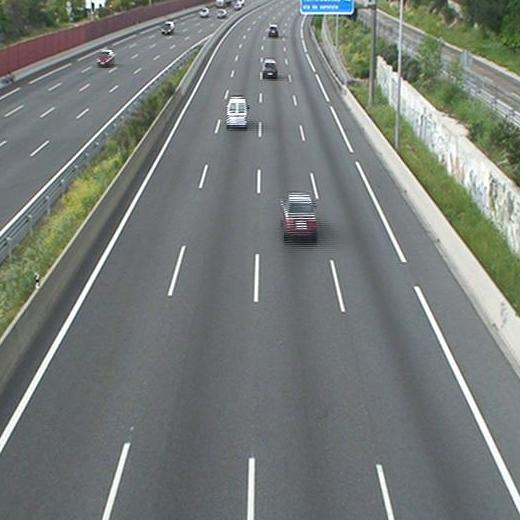car: (282, 194, 318, 234), (263, 59, 278, 77), (268, 24, 279, 37)
van: (226, 98, 247, 127)
